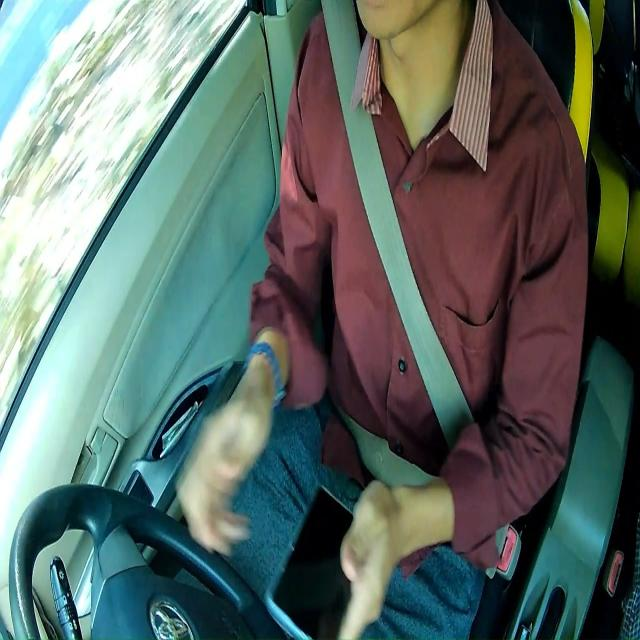phone: (266, 486, 356, 640)
